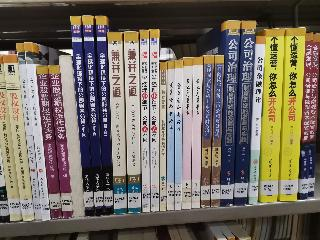book-spine: (2, 54, 36, 223), (70, 14, 96, 218), (80, 13, 106, 217), (23, 43, 52, 221), (216, 21, 243, 208), (258, 28, 286, 203), (16, 42, 42, 220), (279, 25, 305, 202), (233, 20, 257, 206), (59, 54, 85, 218), (94, 15, 115, 216), (36, 65, 62, 220), (48, 64, 74, 218), (108, 30, 129, 214), (123, 32, 142, 214), (248, 36, 266, 205), (146, 29, 160, 211), (188, 57, 204, 208), (210, 56, 225, 208), (300, 31, 313, 200), (200, 56, 214, 208), (307, 34, 320, 196), (139, 28, 150, 214), (181, 59, 194, 209), (173, 60, 184, 211), (158, 61, 169, 211), (167, 60, 175, 210)
